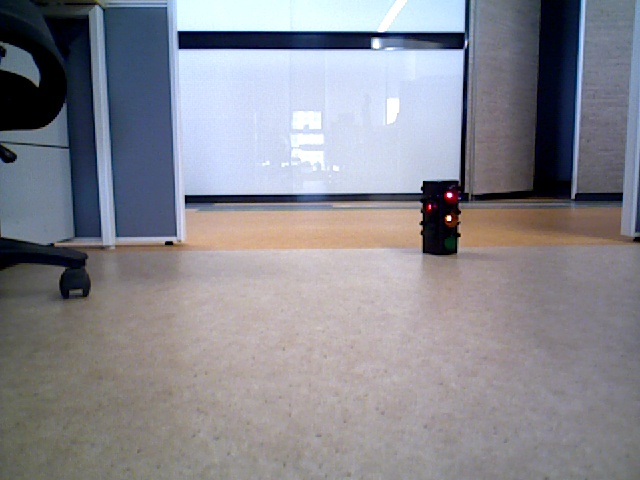red: (424, 182, 457, 253)
